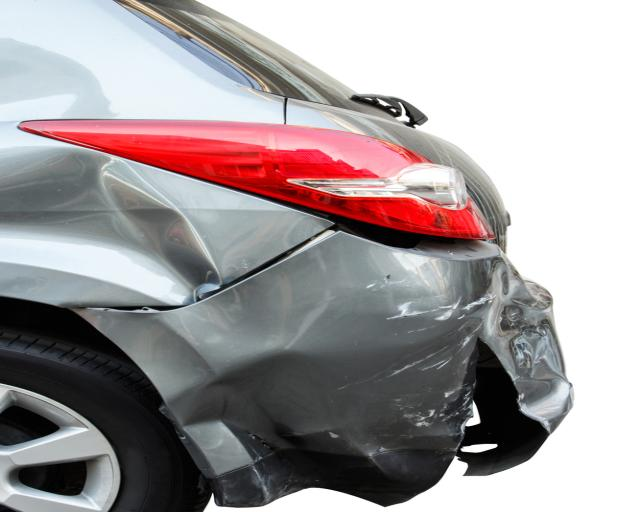crack: (435, 339, 549, 483)
dent: (159, 257, 403, 506), (0, 146, 224, 307), (476, 255, 570, 428)
scratch: (364, 276, 483, 435)
